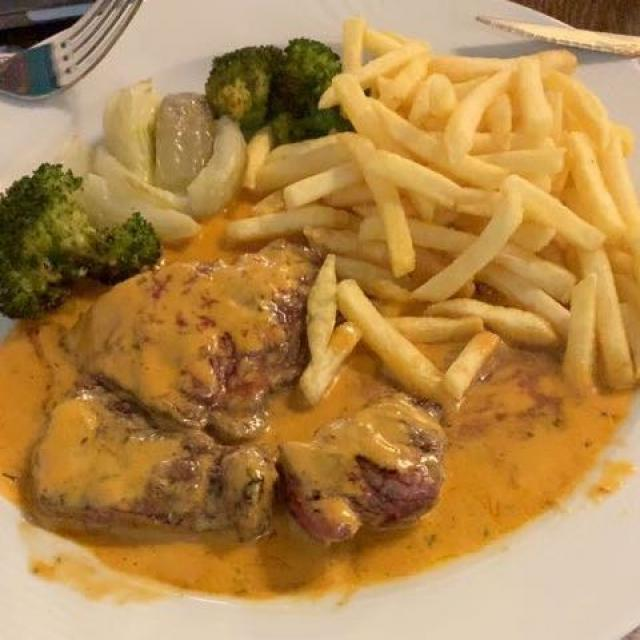beef: (18, 238, 457, 565)
broccoli: (5, 119, 171, 341), (122, 35, 360, 132)
chips-french-fries: (206, 23, 635, 423)
sauce: (2, 243, 634, 596)
